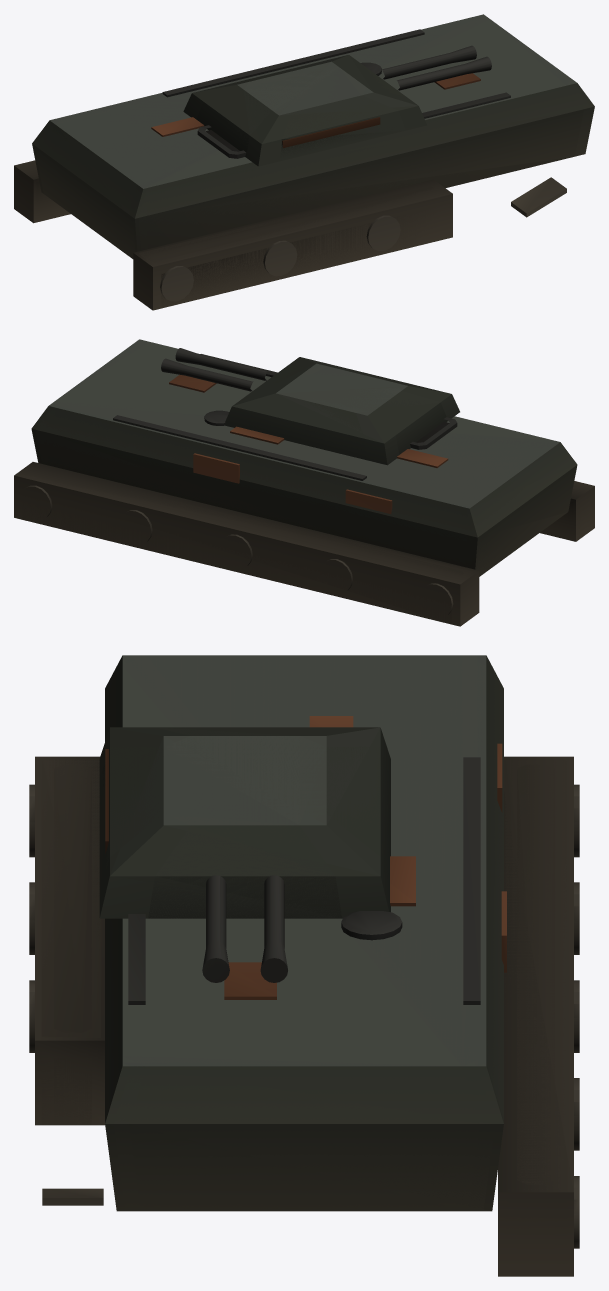
File: neutral_wreck_heavy_vehicle.glb
3 renders of one model, top to bottom at view 1: azimuth 30°, elevation 25°; view 2: azimuth 150°, elevation 25°; view 3: azimuth 270°, elevation 25°, orthographic. The views are drawn at different scales.
Parts seen in each view (by area): view 1: hull (×3), turret (×2), barrel; view 2: hull (×3), turret (×2), barrel; view 3: hull (×3), turret (×2), barrel.
Boxes of the visible parts, left/top/right/bottom form: hull (×3): left=14, top=14, right=594, bottom=310; turret (×2): left=183, top=55, right=426, bottom=166; barrel: left=382, top=45, right=491, bottom=90; hull (×3): left=14, top=339, right=594, bottom=626; turret (×2): left=225, top=357, right=459, bottom=465; barrel: left=161, top=348, right=267, bottom=391; hull (×3): left=29, top=655, right=579, bottom=1276; turret (×2): left=99, top=727, right=390, bottom=918; barrel: left=202, top=875, right=287, bottom=982.
Bounding box in the file's own units: 7.08 × 1.94 × 3.78.
